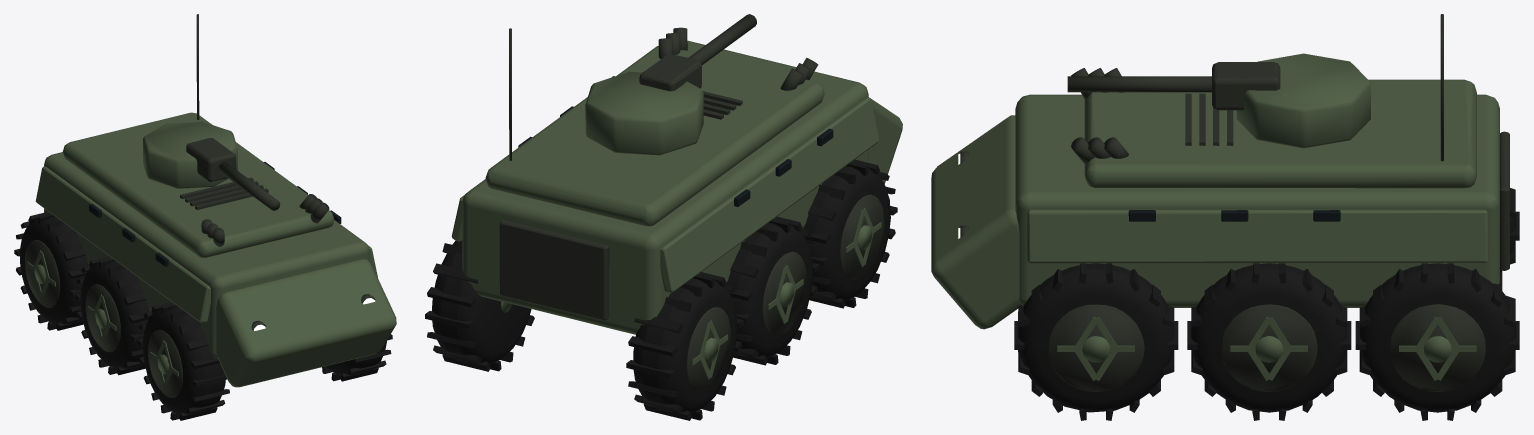
The model's file is apc_std.glb.
3 views of the same model, side by side, from view 1: azimuth 30°, elevation 25°; view 2: azimuth 150°, elevation 25°; view 3: azimuth 270°, elevation 25° (orthographic). The views are drawn at different scales.
Parts seen in each view (by area): view 1: krop_net; view 2: krop_net; view 3: krop_net.
Boxes of the visible parts, x1,y1,x2,y2 form: krop_net: (14,14,396,420); krop_net: (425,14,902,420); krop_net: (931,14,1519,420).
Bounding box in the file's own units: 1.21 × 1.54 × 2.17.
